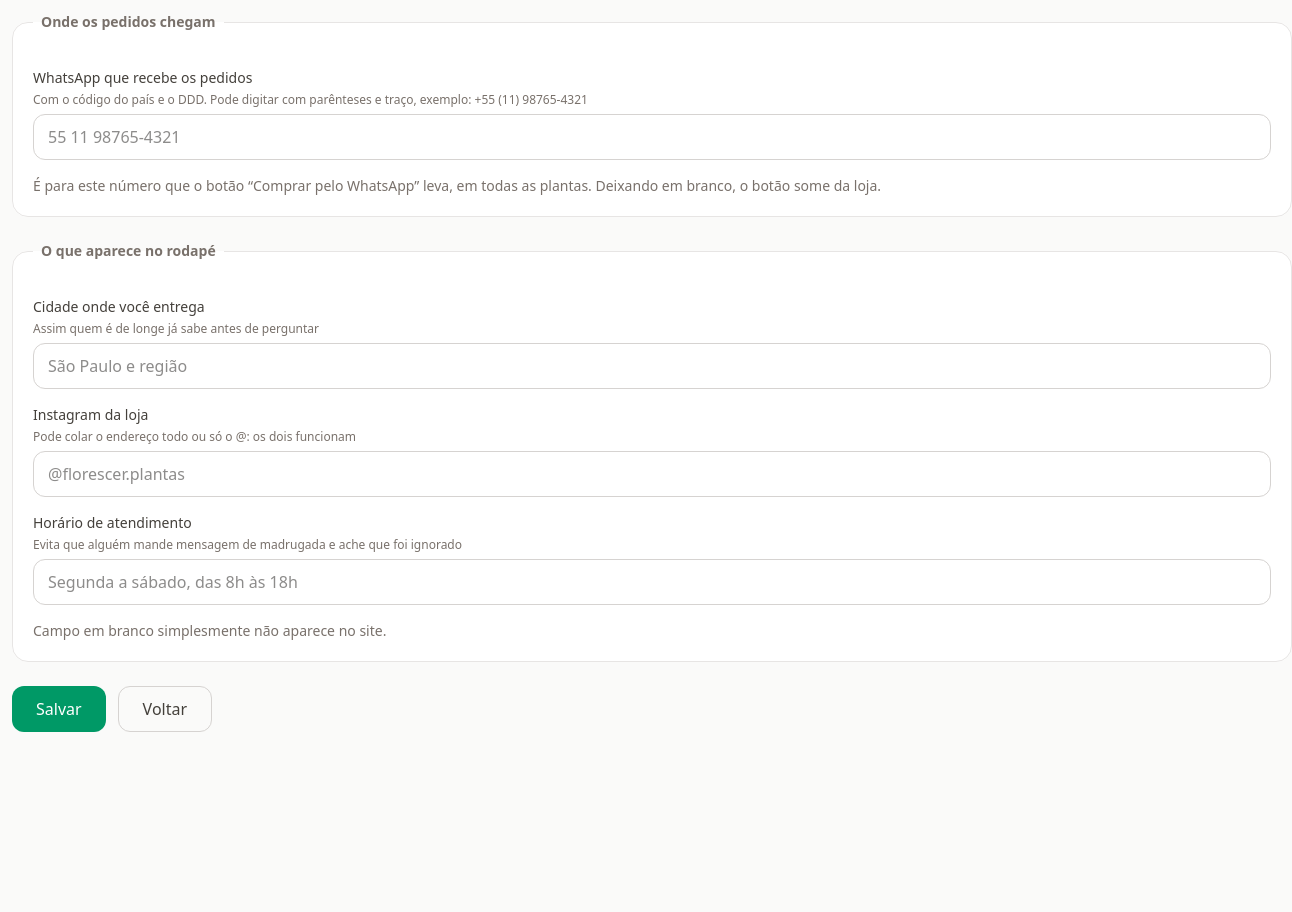
Test case: quando algo dá errado › avisa quando a rede falha, e deixa tentar de novo
Click the button "Salvar": coordinates (59, 709) [12,686,106,732]
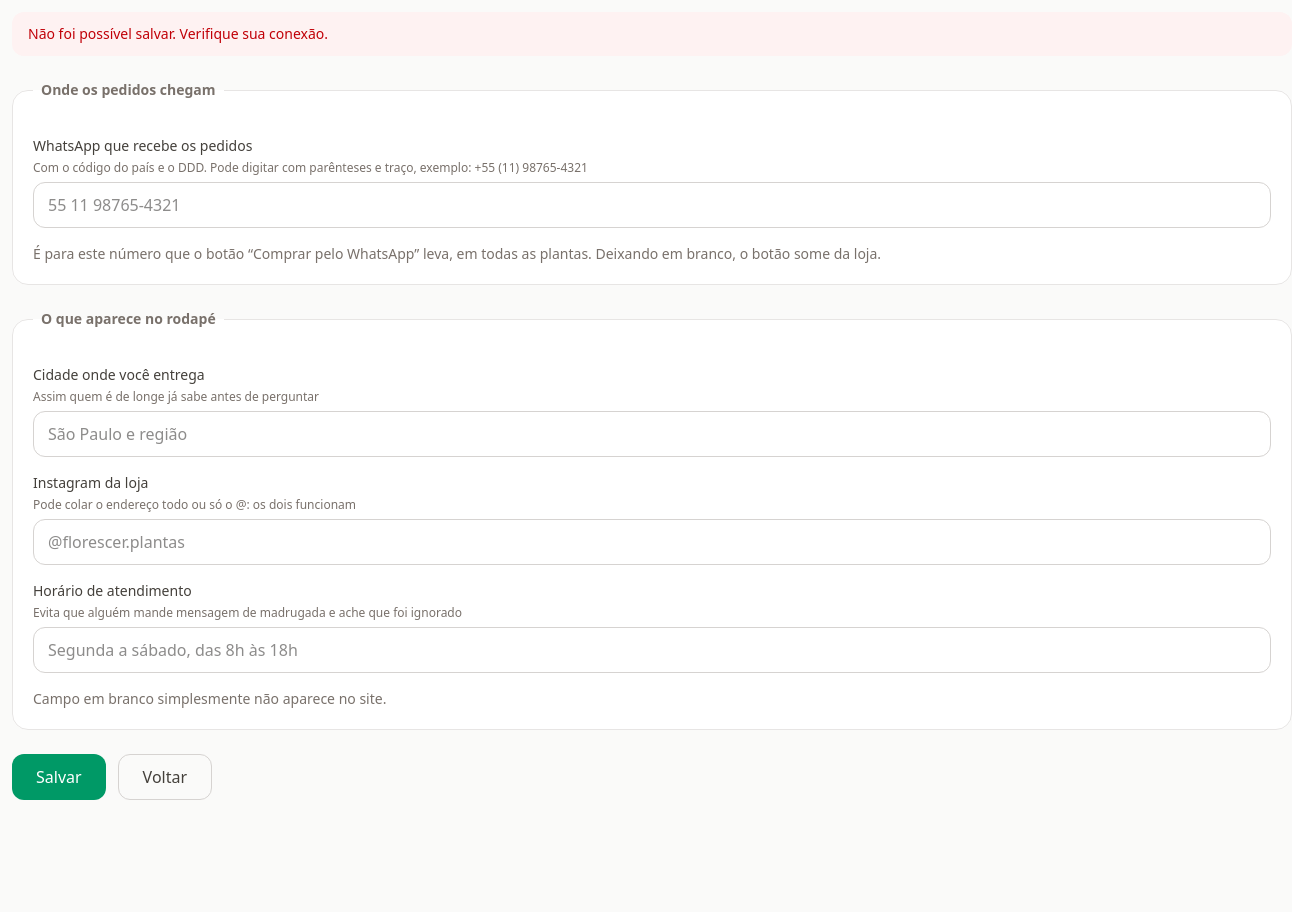
Check: the button "Salvar" is enabled, box [12,754,106,800]
Check: the message shows "Não foi possível salvar", box [28,24,328,43]
